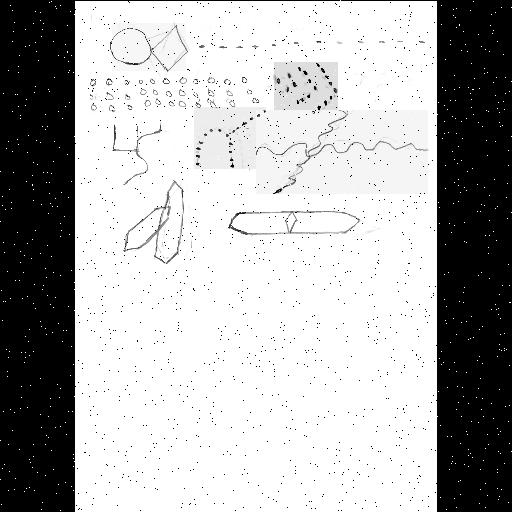shape-1: (112, 23, 186, 71)
shape-2: (196, 36, 426, 48)
shape-3: (90, 76, 258, 110)
shape-4: (274, 62, 338, 114)
shape-5: (110, 120, 160, 182)
shape-6: (194, 107, 266, 169)
shape-7: (256, 110, 428, 194)
shape-8: (124, 180, 184, 264)
shape-9: (228, 208, 358, 236)
